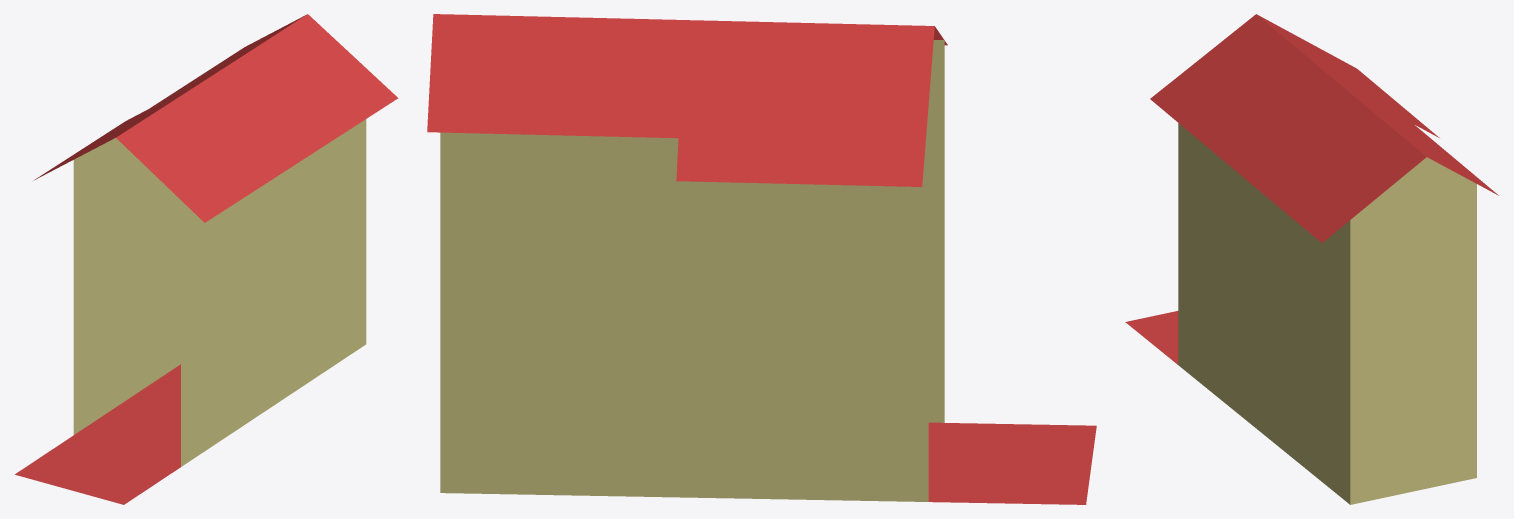
3 renders of one model, left to right at view 1: azimuth 30°, elevation 25°; view 2: azimuth 150°, elevation 25°; view 3: azimuth 270°, elevation 25°, orthographic. The views are drawn at different scales.
Size of the model in its own units: 14.69 by 10.57 by 10.45.
